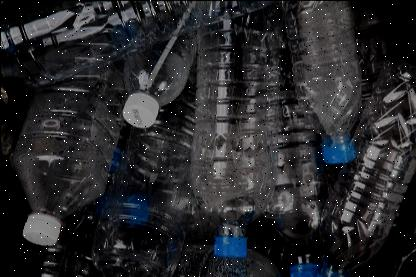Plastic Bottle: (12, 16, 128, 248), (312, 49, 416, 277), (191, 0, 277, 258), (282, 0, 363, 167), (114, 6, 194, 128)
